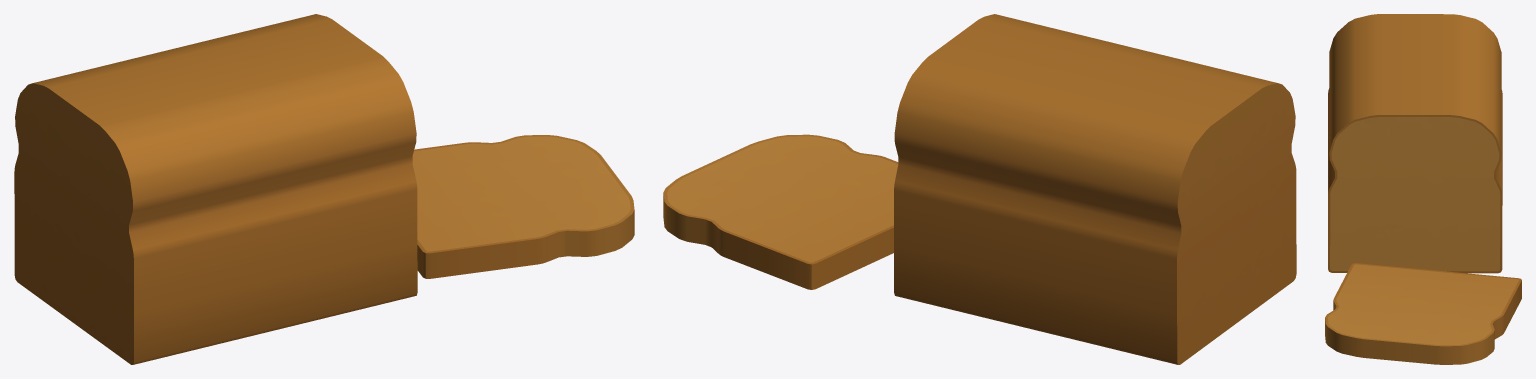
Rendered from Pão.fbx.
The picture shows the model from 3 angles, left to right: view 1: azimuth 30°, elevation 25°; view 2: azimuth 150°, elevation 25°; view 3: azimuth 270°, elevation 25°; orthographic projection. The views are drawn at different scales.
Visible parts, largest first — view 1: Plane.002; view 2: Plane.002; view 3: Plane.002.
Part boxes in pixels (x1,y1,x2,y2): Plane.002: (14, 14, 634, 364); Plane.002: (663, 14, 1296, 364); Plane.002: (1325, 14, 1521, 364).
Bounding box in the file's own units: 161 × 61.54 × 69.32.
1 material, 1 textured.
